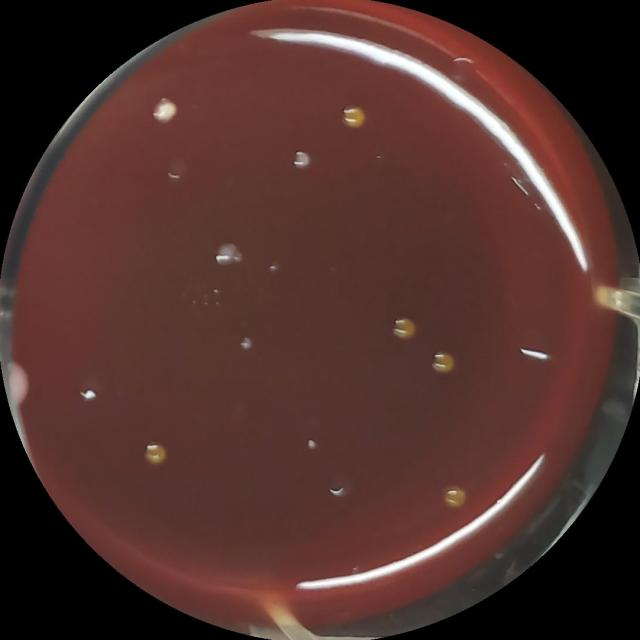Staphylococcus: (81, 386, 98, 405), (306, 438, 318, 451)
